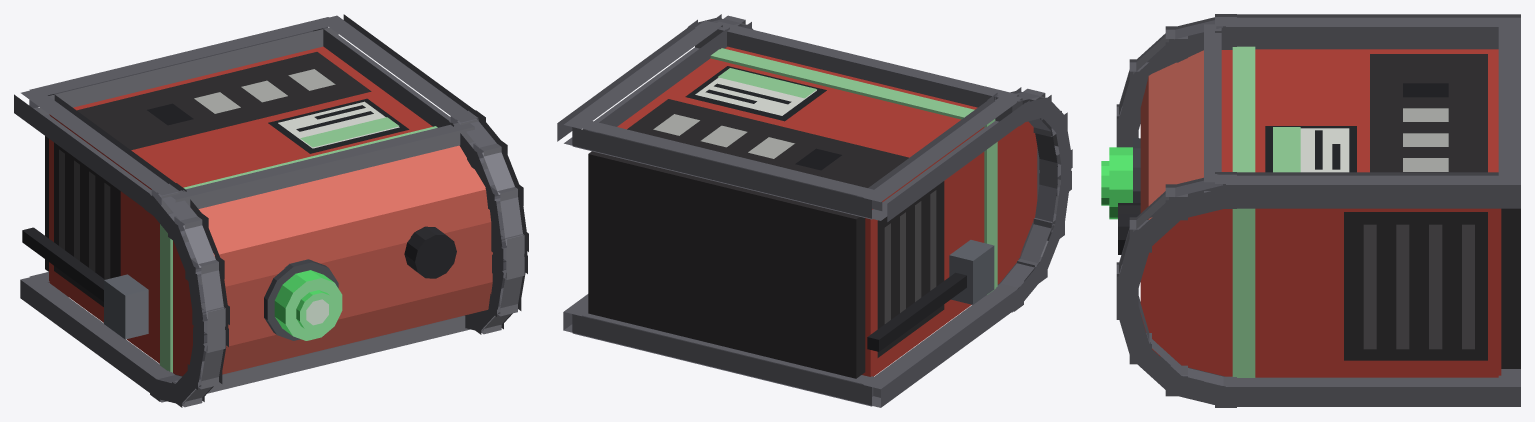
The model's file is backup_ground_lectromax_on_N.obj.
3 views of the same model, side by side, from view 1: azimuth 30°, elevation 25°; view 2: azimuth 150°, elevation 25°; view 3: azimuth 270°, elevation 25° (orthographic). The views are drawn at different scales.
Visible parts, largest first — view 1: backup_ground_lectromax_on_N; view 2: backup_ground_lectromax_on_N; view 3: backup_ground_lectromax_on_N.
Part boxes in pixels (x1,y1,x2,y2): backup_ground_lectromax_on_N: (14, 14, 528, 407); backup_ground_lectromax_on_N: (557, 14, 1072, 407); backup_ground_lectromax_on_N: (1101, 14, 1520, 407).
Bounding box in the file's own units: 0.631 × 0.377 × 0.6405.
Materials: 1 (1 with a texture image).
